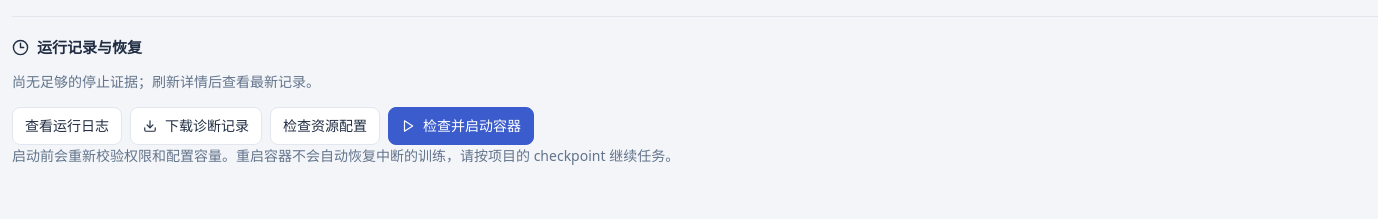
Test: recovery and diagnostic buttons prevent duplicate requests while recovery is pending
Click the button "检查并启动容器". click: coordinates (461, 126)
box: [388, 107, 534, 145]
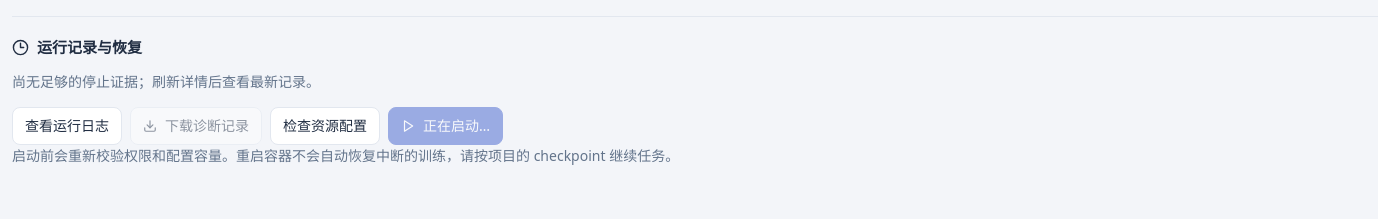
Check: the button "正在启动…" is disabled
Check: the button "下载诊断记录" is disabled, box [130, 107, 262, 145]
Click the button "正在启动…". click: coordinates (446, 126)
box: [388, 107, 503, 145]
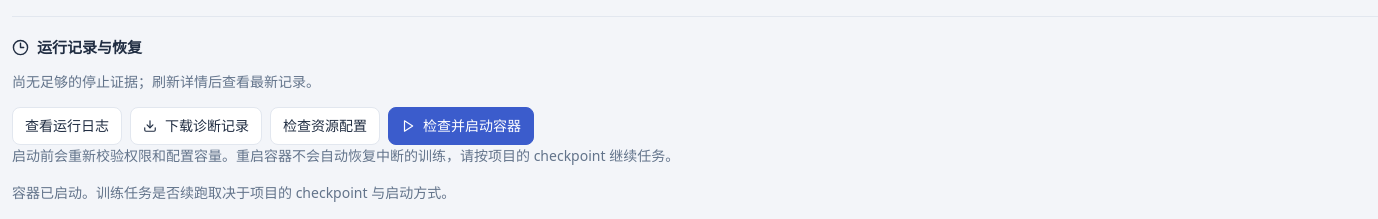
Check: the message shows "checkpoint", box [12, 183, 455, 202]
